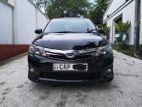car: (27, 16, 114, 87)
